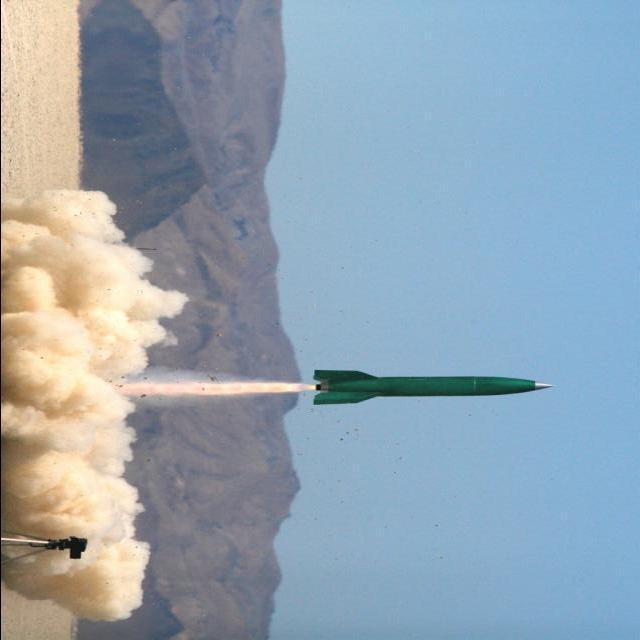missile: (309, 360, 557, 420)
